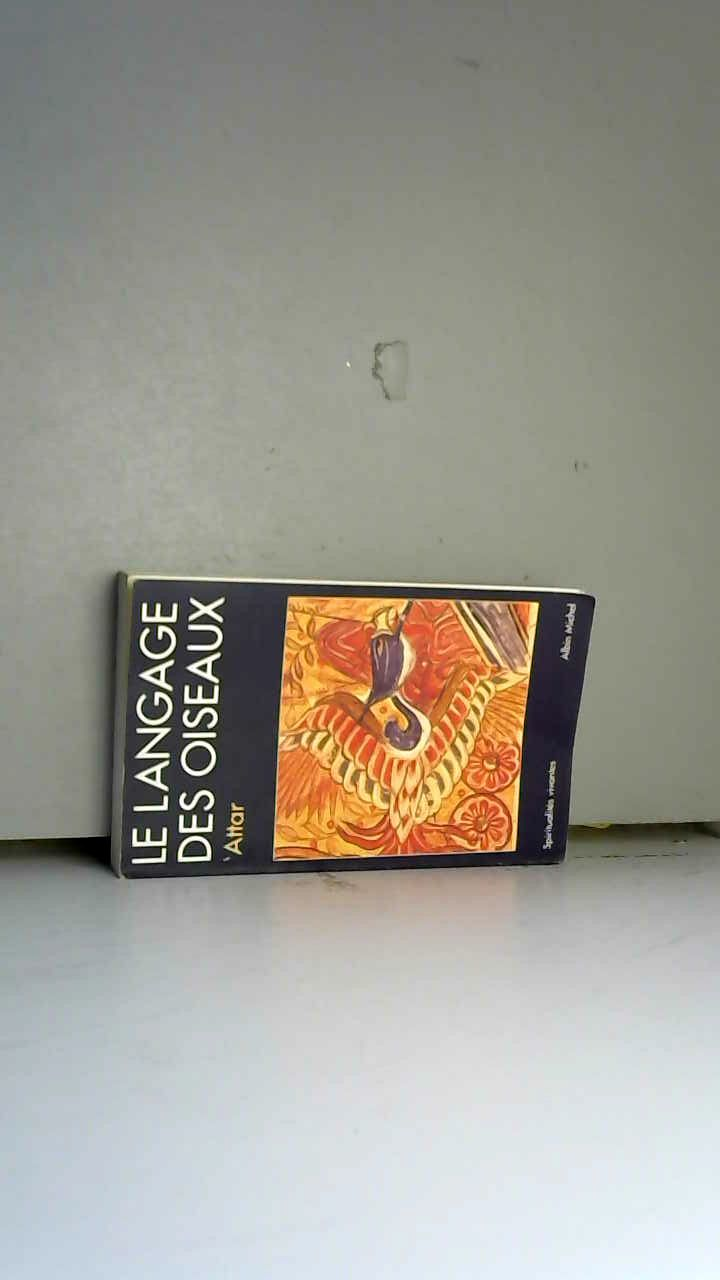book: (91, 548, 619, 903)
